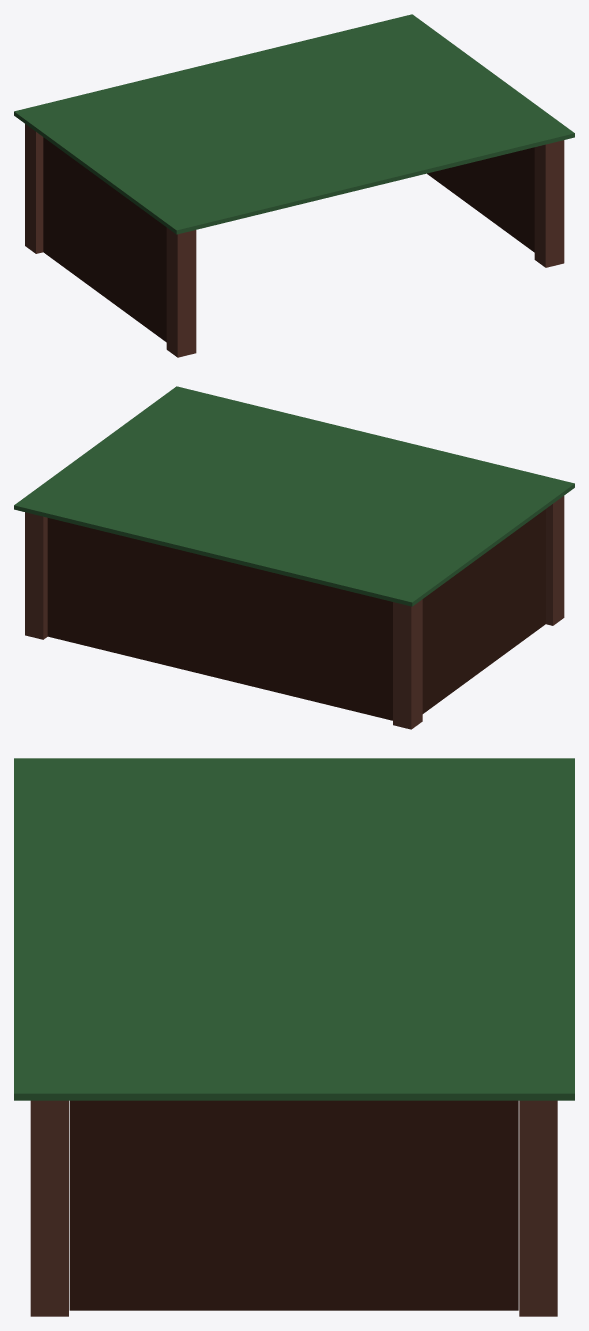
Rendered from Card Table 3.2.fbx.
The picture shows the model from 3 angles, top to bottom: view 1: azimuth 30°, elevation 25°; view 2: azimuth 150°, elevation 25°; view 3: azimuth 270°, elevation 25°; orthographic projection. The views are drawn at different scales.
Visible parts, largest first — view 1: Front_Panel1, Side_panel_2, side_Panel_1, Leg_1, Leg_4, Leg_2; view 2: Front_Panel1, Front_Panel, Side_panel_2, Leg_2, Leg_3, Leg_1; view 3: Front_Panel1, side_Panel_1, Leg_3, Leg_4.
Part boxes in pixels (box(x1,y1,x2,y2)): Front_Panel1: box(14, 14, 574, 234); Side_panel_2: box(43, 137, 166, 342); side_Panel_1: box(427, 147, 534, 252); Leg_1: box(166, 227, 196, 357); Leg_4: box(534, 140, 564, 267); Leg_2: box(25, 124, 43, 253); Front_Panel1: box(14, 386, 574, 606); Front_Panel: box(47, 518, 392, 720); Side_panel_2: box(422, 509, 545, 713); Leg_2: box(393, 599, 422, 729); Leg_3: box(25, 512, 47, 639); Leg_1: box(546, 496, 564, 625); Front_Panel1: box(14, 758, 574, 1100); side_Panel_1: box(69, 1100, 518, 1310); Leg_3: box(519, 1100, 557, 1316); Leg_4: box(30, 1100, 68, 1316).
Bounding box in the file's own units: 3.25 × 1.03 × 2.3.
